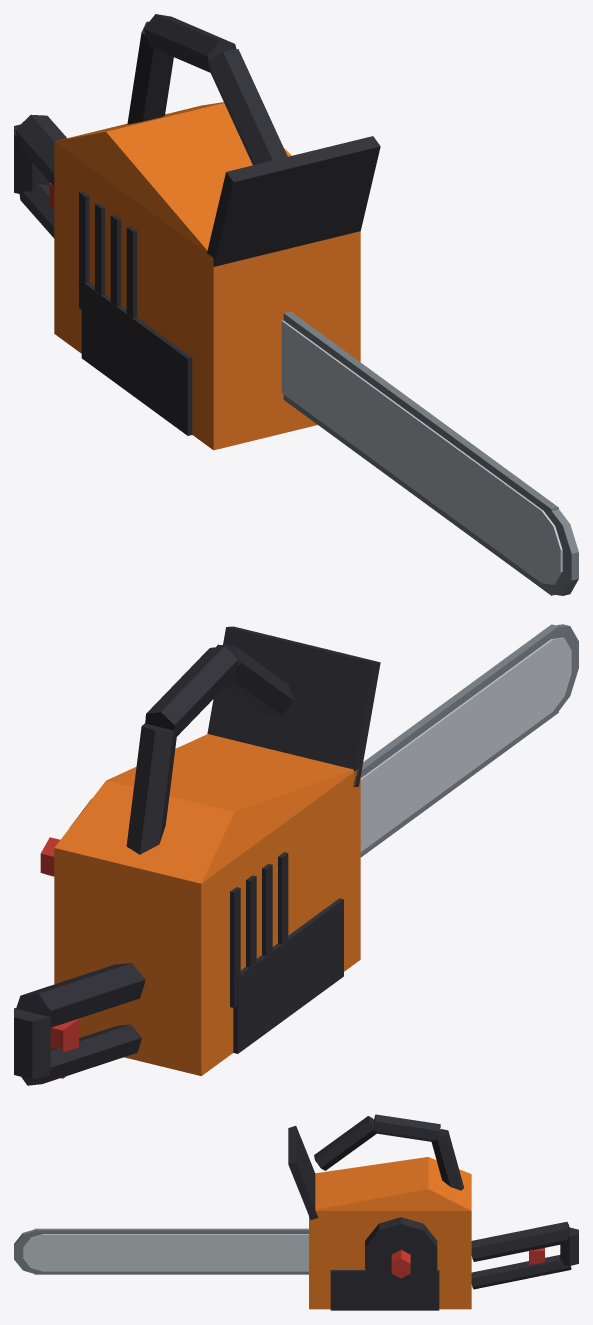
The model's file is motosierra.glb.
3 views of the same model, one above another, from view 1: azimuth 30°, elevation 25°; view 2: azimuth 150°, elevation 25°; view 3: azimuth 270°, elevation 25° (orthographic). The views are drawn at different scales.
Visible parts, largest first — view 1: motosierra_naranja_motor, motosierra_mango_negro, motosierra_acero, motosierra_acero_osc; view 2: motosierra_naranja_motor, motosierra_mango_negro, motosierra_acero, motosierra_acero_osc, motosierra_mango_rojo; view 3: motosierra_mango_negro, motosierra_naranja_motor, motosierra_acero, motosierra_acero_osc, motosierra_mango_rojo.
Part boxes in pixels (<box>): motosierra_naranja_motor: <box>54,102,360,450</box>; motosierra_mango_negro: <box>14,14,380,435</box>; motosierra_acero: <box>281,320,562,584</box>; motosierra_acero_osc: <box>283,311,578,595</box>; motosierra_naranja_motor: <box>54,734,360,1076</box>; motosierra_mango_negro: <box>14,626,380,1085</box>; motosierra_acero: <box>360,637,571,851</box>; motosierra_acero_osc: <box>360,624,578,857</box>; motosierra_mango_rojo: <box>40,837,78,1078</box>; motosierra_mango_negro: <box>288,1114,578,1310</box>; motosierra_naranja_motor: <box>309,1157,471,1309</box>; motosierra_acero: <box>23,1234,308,1271</box>; motosierra_acero_osc: <box>14,1228,308,1274</box>; motosierra_mango_rojo: <box>391,1248,544,1278</box>.
Size of the model in its own units: 0.245 by 0.3575 by 1.04.
